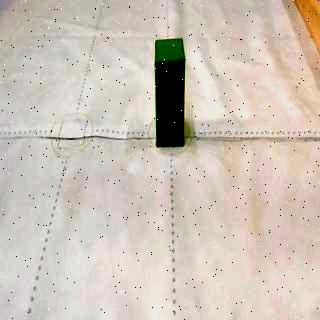greenbox: (157, 39, 186, 148)
